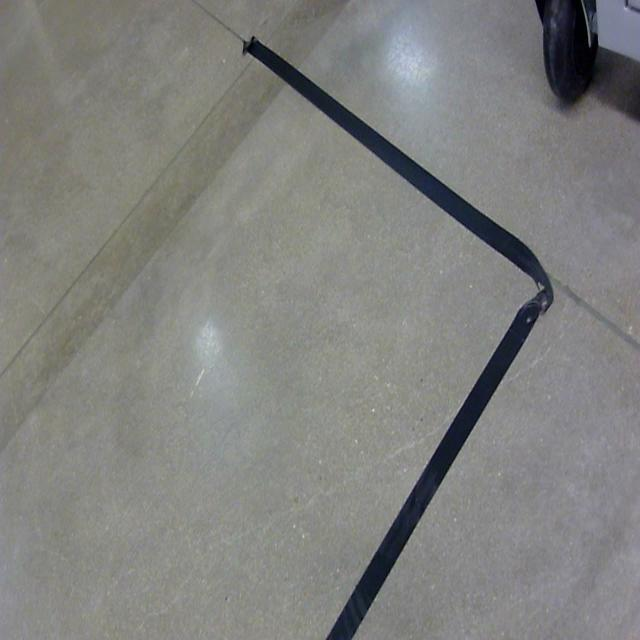tape: (217, 15, 578, 640)
